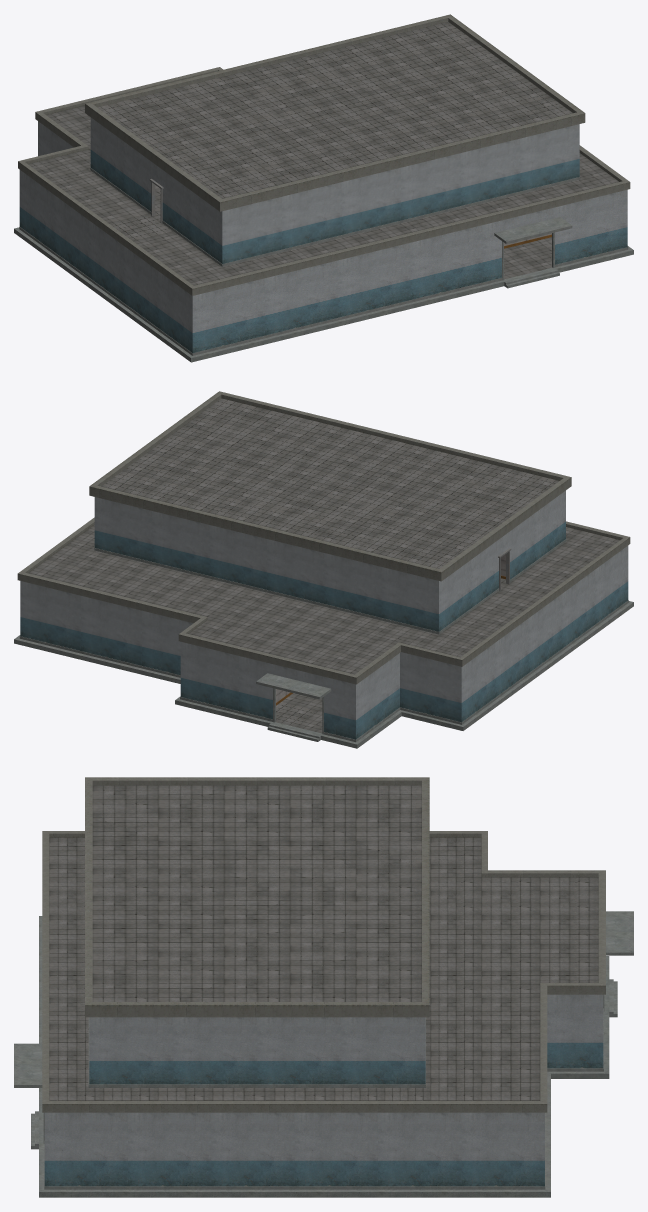
Rendered from Building_Yjs1.glb.
3 views of the same model, one above another, from view 1: azimuth 30°, elevation 25°; view 2: azimuth 150°, elevation 25°; view 3: azimuth 270°, elevation 25° (orthographic). The views are drawn at different scales.
Visible parts, largest first — view 1: xiutz_yjs1; view 2: xiutz_yjs1; view 3: xiutz_yjs1.
Part boxes in pixels (x1,y1,x2,y2): xiutz_yjs1: (14,14,633,362); xiutz_yjs1: (14,391,633,748); xiutz_yjs1: (14,777,633,1197).
Size of the model in its own units: 43.35 by 12.69 by 41.14.
Materials: 1 (1 with a texture image).
